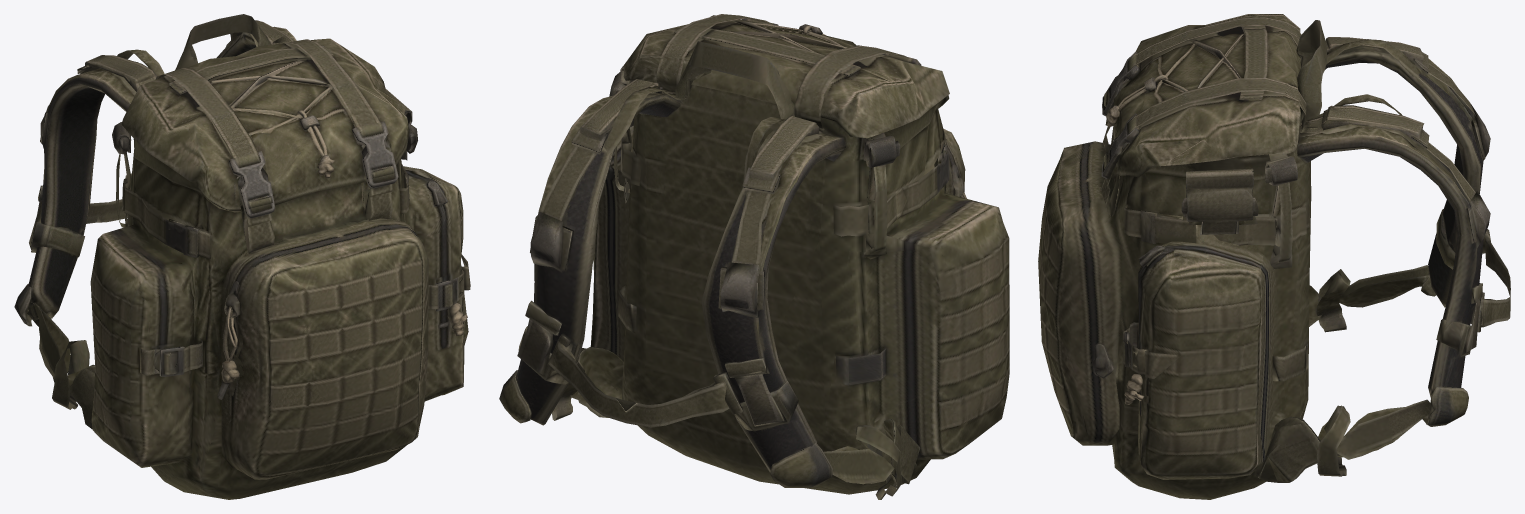
The model's file is backpack.glb.
The picture shows the model from 3 angles, left to right: view 1: azimuth 30°, elevation 25°; view 2: azimuth 150°, elevation 25°; view 3: azimuth 270°, elevation 25°; orthographic projection. The views are drawn at different scales.
Bounding box in the file's own units: 0.8477 × 0.9536 × 0.9507.
1 material, 1 textured.
